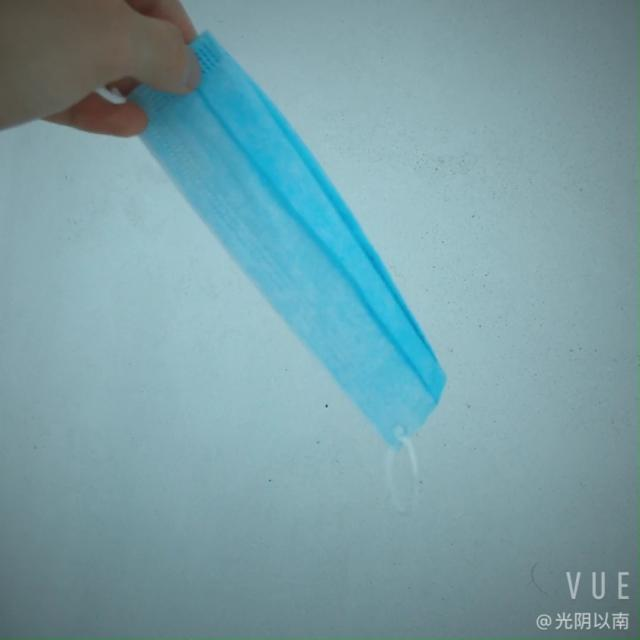face mask: (132, 8, 464, 447)
